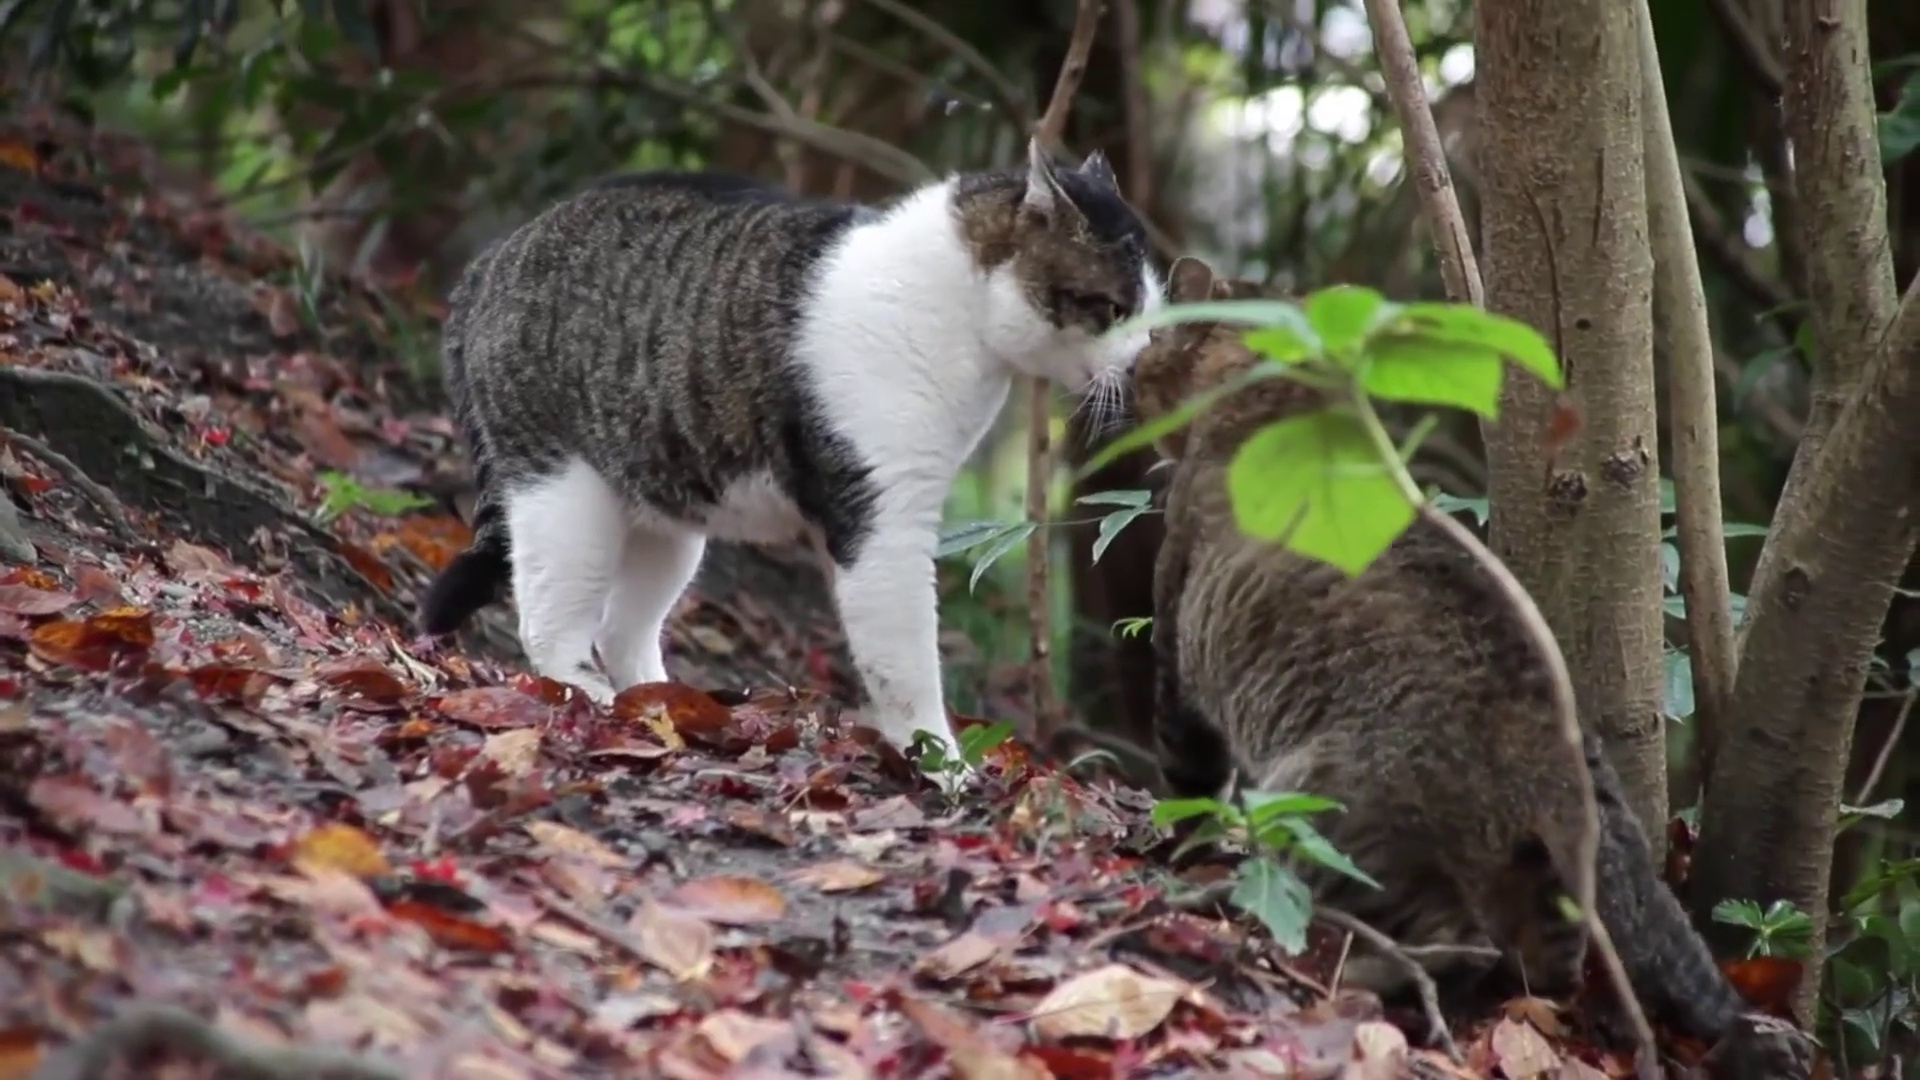black-white: (425, 136, 1160, 799)
pure black: (1131, 252, 1604, 942)
